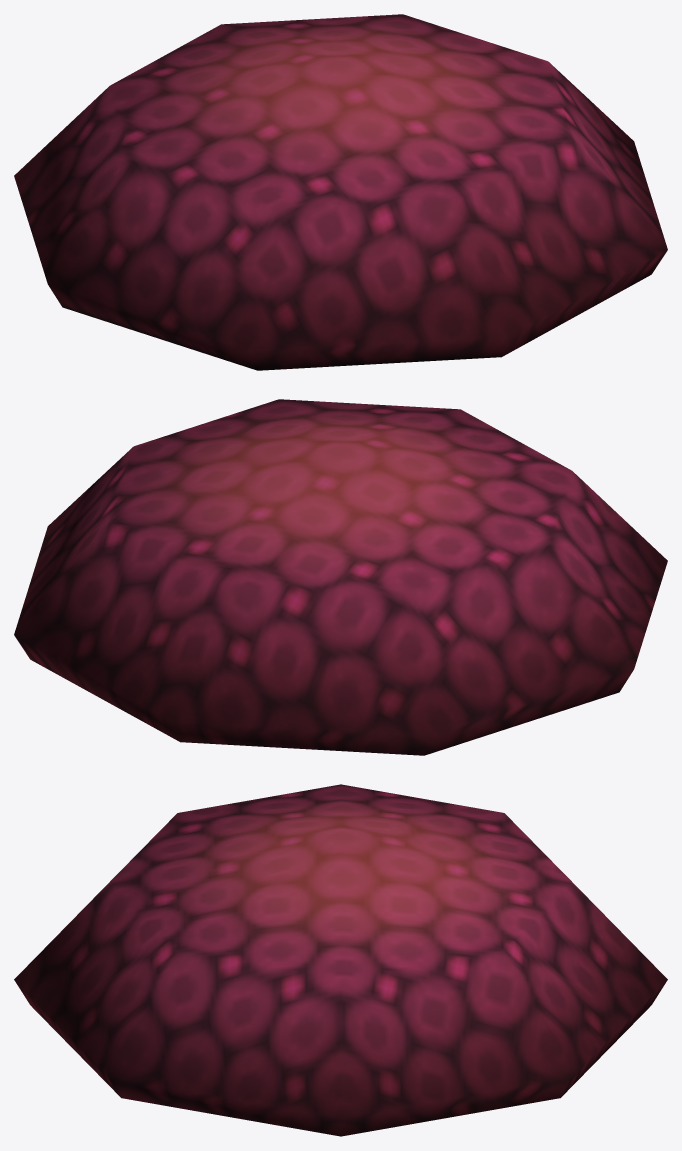
Rendered from Coral_28.FBX.
3 renders of one model, top to bottom at view 1: azimuth 30°, elevation 25°; view 2: azimuth 150°, elevation 25°; view 3: azimuth 270°, elevation 25°, orthographic. The views are drawn at different scales.
Parts seen in each view (by area): view 1: Coral_28; view 2: Coral_28; view 3: Coral_28.
Boxes of the visible parts, x1,y1,x2,y2 form: Coral_28: (14, 14, 667, 370); Coral_28: (14, 399, 667, 755); Coral_28: (14, 784, 667, 1136).
Size of the model in its own units: 21.25 by 6.08 by 21.25.
